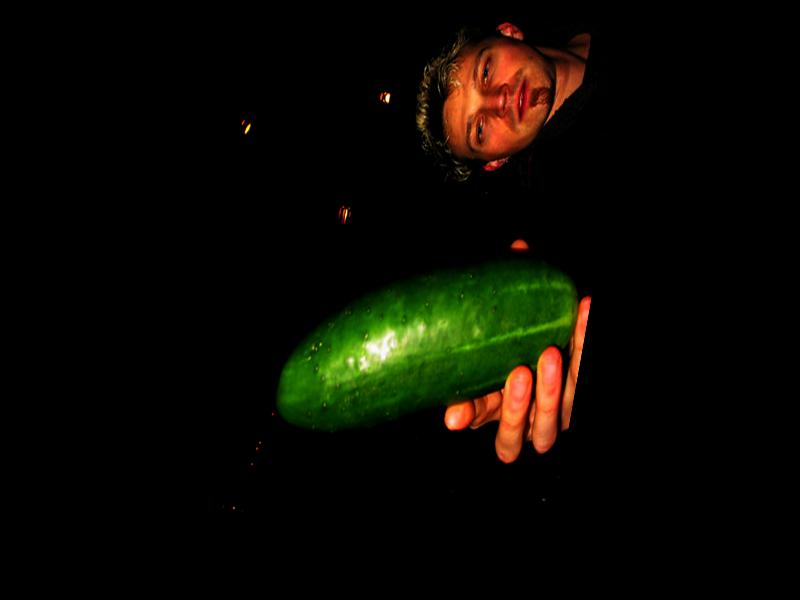Cucumber: (271, 221, 583, 473)
